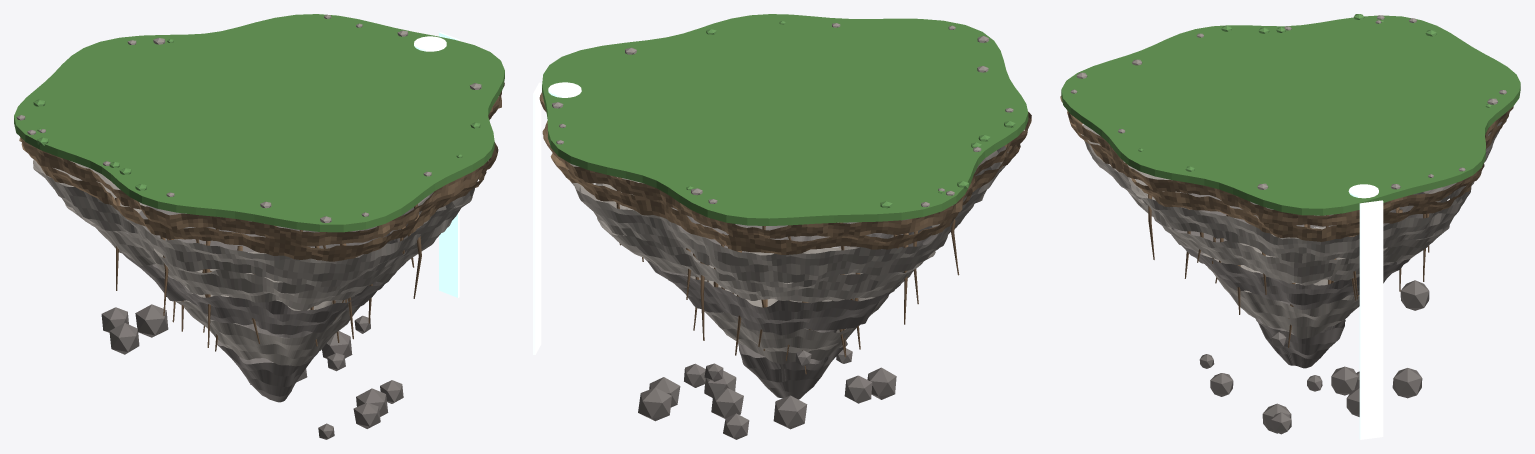
The model's file is island.glb.
3 views of the same model, side by side, from view 1: azimuth 30°, elevation 25°; view 2: azimuth 150°, elevation 25°; view 3: azimuth 270°, elevation 25° (orthographic). The views are drawn at different scales.
Visible parts, largest first — view 1: cap; view 2: cap; view 3: cap.
Boxes of the visible parts, bbox=[...] form: cap: bbox=[14, 14, 504, 439]; cap: bbox=[533, 14, 1031, 439]; cap: bbox=[1060, 14, 1520, 439].
Size of the model in its own units: 2.11 by 1.49 by 2.12.
